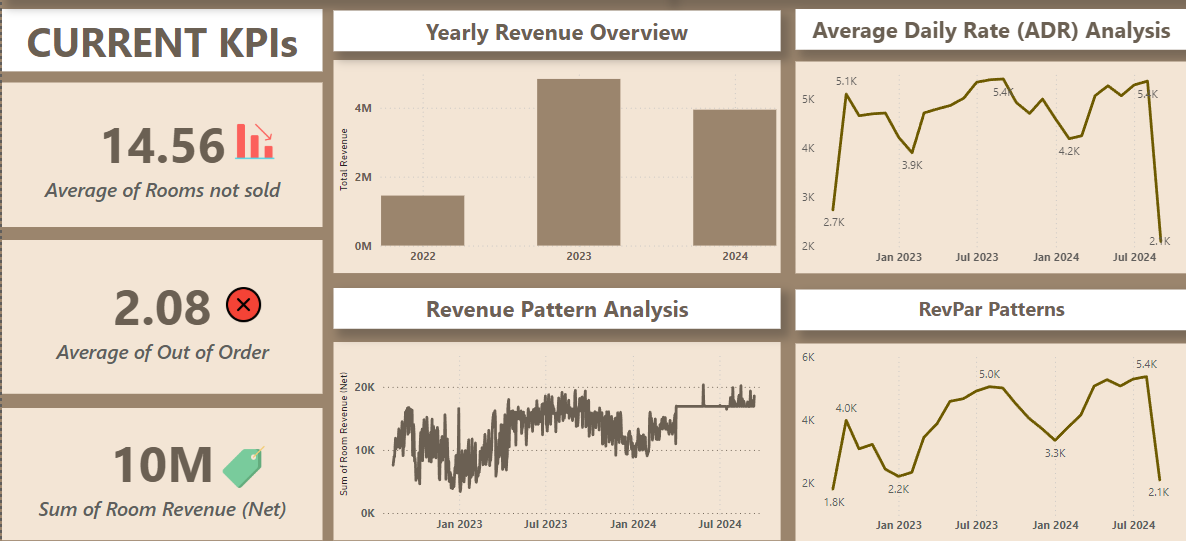

What the dashboard file says about the page in this screenshot:
{"tool":"powerbi","page":{"name":"Duplicate of Trends analysis","canvas":[1280,720],"ordinal":8},"visuals":[{"type":"columnChart","fields":{"Y":["Net Revenue.Total Revenue"],"Category":["Net Revenue.Date.Variation.Date Hierarchy.Year","Net Revenue.Date.Variation.Date Hierarchy.Month"]},"box":[661.6,195.5,483.3,239.8],"z":0},{"type":"lineChart","title":"Trends in RevPar","fields":{"Category":["Date.Date.Variation.Date Hierarchy.Year","Date.Date.Variation.Date Hierarchy.Month"],"Y":["Sum(Sales.RevPAR (Net))"]},"box":[10.9,244.9,568.2,224.4],"z":1000},{"type":"lineChart","title":"Trends in ADR","fields":{"Category":["Date.Date.Variation.Date Hierarchy.Year","Date.Date.Variation.Date Hierarchy.Month"],"Y":["Sum(Sales.ADR (Net))"]},"box":[9.7,480.2,568.2,230.4],"z":2000},{"type":"lineChart","fields":{"Y":["Sum(Sales.Room Revenue (Net))"],"Category":["Date.Date.Variation.Date Hierarchy.Year","Date.Date.Variation.Date Hierarchy.Quarter","Date.Date.Variation.Date Hierarchy.Month","Date.Date.Variation.Date Hierarchy.Day"]},"box":[661.6,435.4,558.3,284.1],"z":3000},{"type":"card","fields":{"Values":["Avg(Sales.Rooms not sold)"]},"box":[494.2,73.9,279.9,102.5],"z":4000},{"type":"card","fields":{"Values":["Avg(Sales.Out of Order)"]},"box":[786.2,73.9,235.3,102.5],"z":5000},{"type":"card","fields":{"Values":["Sum(Sales.Room Revenue (Net))"]},"box":[1031.1,76.3,236.5,100.1],"z":6000},{"type":"image","box":[803.1,90.7,48.3,77.2],"z":7000},{"type":"image","box":[1031.1,98,59.1,56.7],"z":8000},{"type":"image","box":[232.9,97.5,60,63.3],"z":9000},{"type":"image","box":[517.2,98,53.1,56.7],"z":10000},{"type":"textbox","box":[12.9,76.3,205.1,100.1],"z":11000}]}

Visuals, with their boxes on the page's 1280x720 design canvas (x1, y1, x2, y2). These are canvas units, not pixel positions in the 1186x541 screenshot, which may show the page scaled, cropped or inside an application window:
columnChart - Net Revenue.Total Revenue x Net Revenue.Date.Variation.Date Hierarchy.Year: pyautogui.locateOnScreen(662, 196, 1145, 435)
"Trends in RevPar" lineChart: pyautogui.locateOnScreen(11, 245, 579, 469)
"Trends in ADR" lineChart: pyautogui.locateOnScreen(10, 480, 578, 711)
lineChart - Sum(Sales.Room Revenue (Net)) x Date.Date.Variation.Date Hierarchy.Year: pyautogui.locateOnScreen(662, 435, 1220, 720)
card - Avg(Sales.Rooms not sold): pyautogui.locateOnScreen(494, 74, 774, 176)
card - Avg(Sales.Out of Order): pyautogui.locateOnScreen(786, 74, 1022, 176)
card - Sum(Sales.Room Revenue (Net)): pyautogui.locateOnScreen(1031, 76, 1268, 176)
image: pyautogui.locateOnScreen(803, 91, 851, 168)
image: pyautogui.locateOnScreen(1031, 98, 1090, 155)
image: pyautogui.locateOnScreen(233, 98, 293, 161)
image: pyautogui.locateOnScreen(517, 98, 570, 155)
textbox: pyautogui.locateOnScreen(13, 76, 218, 176)
